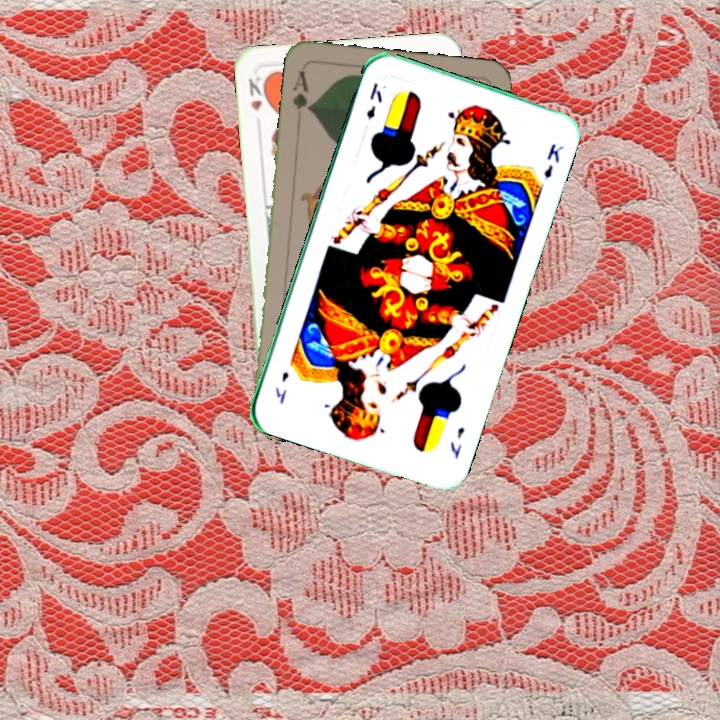EK: (362, 79, 385, 122), (446, 422, 468, 461)
GA: (288, 67, 314, 124)
HK: (244, 72, 271, 114)
